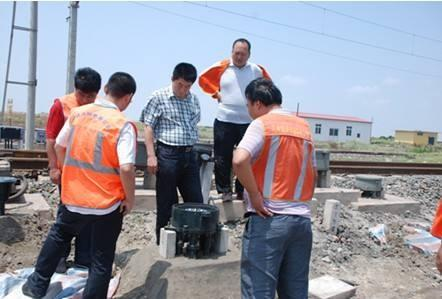NoVest: (151, 90, 202, 151)
Vest: (58, 105, 138, 212), (244, 111, 316, 214)
